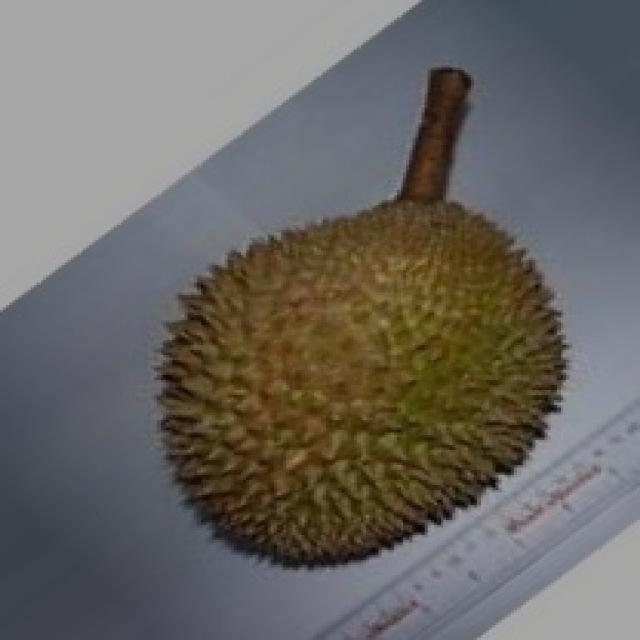fruit: (117, 245, 489, 603)
